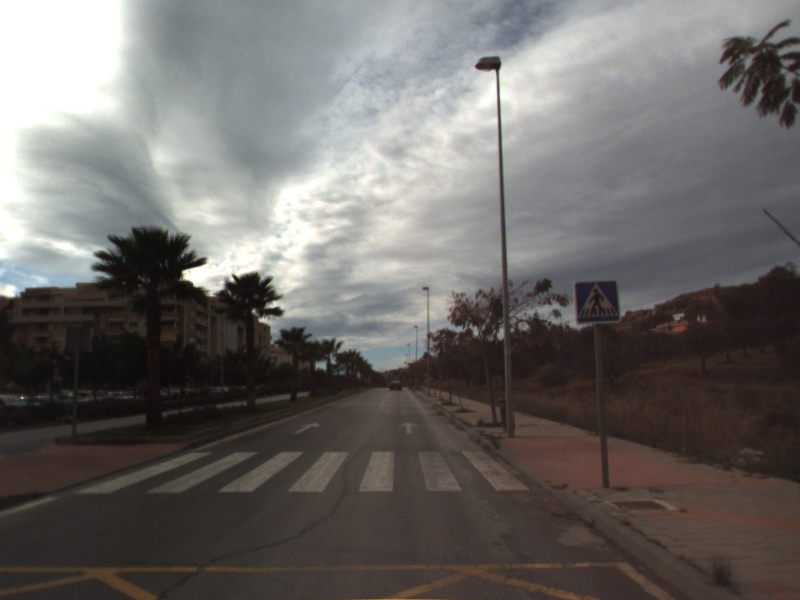STRAIGHT: (292, 420, 323, 436), (396, 420, 421, 436)
